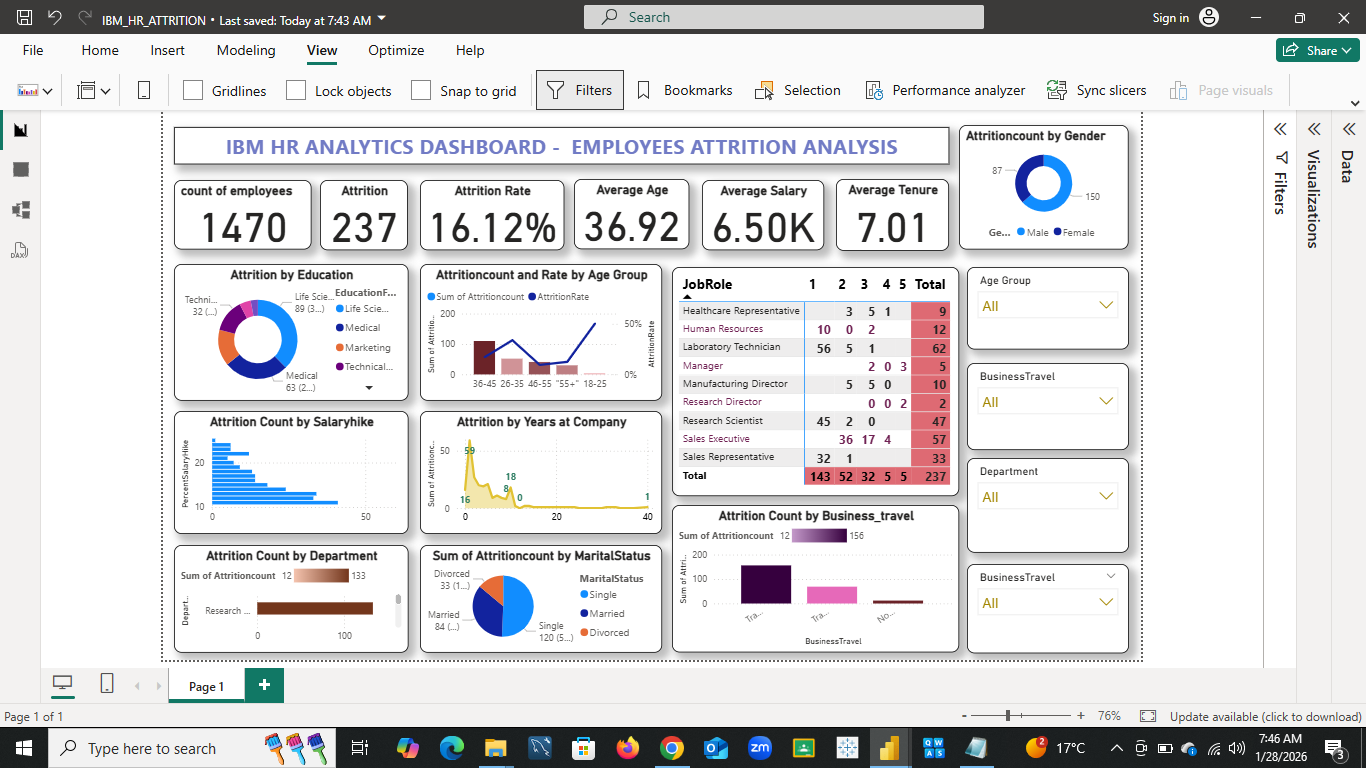

Layout of this report page (visuals, bound fields, positions):
{"tool":"powerbi","page":{"name":"Page 1","canvas":[1280,720],"ordinal":0},"visuals":[{"type":"textbox","box":[14.4,21.6,1015.2,49],"z":0},{"type":"card","title":"count of employees","fields":{"Values":["CountNonNull(HR_ANALYTICS.EmployeeID)"]},"box":[14.4,92.2,180,90.7],"z":1000},{"type":"card","title":"Attrition","fields":{"Values":["Sum(HR_ANALYTICS.Attritioncount)"]},"box":[205.9,92.2,115.2,92.2],"z":2000},{"type":"card","title":"Attrition Rate","fields":{"Values":["HR_ANALYTICS.AttritionRate"]},"box":[337,92.2,188.6,92.2],"z":3000},{"type":"card","title":"Average Age","fields":{"Values":["Avg(HR_ANALYTICS.Age)"]},"box":[538.6,90.7,151.2,92.2],"z":4000},{"type":"card","title":"Average Salary","fields":{"Values":["Avg(HR_ANALYTICS.MonthlyIncome)"]},"box":[705.6,92.2,159.8,92.2],"z":5000},{"type":"card","title":"Average Tenure","fields":{"Values":["Avg(HR_ANALYTICS.YearsAtCompany)"]},"box":[881.3,90.7,148.3,93.6],"z":6000},{"type":"donutChart","title":" Attritioncount by Gender","fields":{"Category":["HR_ANALYTICS.Gender"],"Y":["Sum(HR_ANALYTICS.Attritioncount)"]},"box":[1042.6,20.2,221.8,162.7],"z":7000},{"type":"donutChart","title":"Attrition by Education","fields":{"Category":["HR_ANALYTICS.EducationField","HR_ANALYTICS.YearsAtCompany"],"Y":["Sum(HR_ANALYTICS.Attritioncount)"]},"box":[14.4,201.6,306.7,178.6],"z":8000},{"type":"lineStackedColumnComboChart","title":" Attritioncount and Rate by Age Group","fields":{"Category":["HR_ANALYTICS.Age Group"],"Y":["Sum(HR_ANALYTICS.Attritioncount)"],"Y2":["HR_ANALYTICS.AttritionRate"]},"box":[337,201.6,316.8,178.6],"z":9000},{"type":"pivotTable","fields":{"Rows":["HR_ANALYTICS.JobRole"],"Columns":["HR_ANALYTICS.JobLevel"],"Values":["Sum(HR_ANALYTICS.Attritioncount)"]},"box":[666.7,205.9,375.8,299.5],"z":10000},{"type":"barChart","title":"Attrition Count by Salaryhike","fields":{"Y":["Sum(HR_ANALYTICS.Attritioncount)"],"Category":["HR_ANALYTICS.PercentSalaryHike"]},"box":[14.4,394.6,306.7,161.3],"z":11000},{"type":"areaChart","title":"Attrition by Years at Company","fields":{"Category":["HR_ANALYTICS.YearsAtCompany"],"Y":["Sum(HR_ANALYTICS.Attritioncount)"]},"box":[337,394.6,316.8,161.3],"z":12000},{"type":"barChart","title":"Attrition Count by Department","fields":{"Y":["Sum(HR_ANALYTICS.Attritioncount)"],"Category":["HR_ANALYTICS.Department"]},"box":[14.4,568.8,306.7,141.1],"z":13000},{"type":"pieChart","fields":{"Category":["HR_ANALYTICS.MaritalStatus"],"Y":["Sum(HR_ANALYTICS.Attritioncount)"]},"box":[337,568.8,316.8,141.1],"z":14000},{"type":"columnChart","title":"Attrition Count by Business_travel","fields":{"Y":["Sum(HR_ANALYTICS.Attritioncount)"],"Category":["HR_ANALYTICS.BusinessTravel"]},"box":[666.7,517,375.8,193],"z":15000},{"type":"slicer","fields":{"Values":["HR_ANALYTICS.Age Group"]},"box":[1052.6,205.9,211.7,108],"z":16000},{"type":"slicer","fields":{"Values":["HR_ANALYTICS.BusinessTravel"]},"box":[1052.6,331.2,211.7,113.8],"z":17000},{"type":"slicer","fields":{"Values":["HR_ANALYTICS.Department"]},"box":[1052.6,455,211.7,123.8],"z":18000},{"type":"slicer","fields":{"Values":["HR_ANALYTICS.BusinessTravel"]},"box":[1052.6,594.7,211.7,116.6],"z":19000}]}

Visuals, with their boxes on the page's 1280x720 design canvas (x1, y1, x2, y2). These are canvas units, not pixel positions in the 1366x768 screenshot, which may show the page scaled, cropped or inside an application window:
textbox: Rect(14, 22, 1030, 71)
"count of employees" card: Rect(14, 92, 194, 183)
"Attrition" card: Rect(206, 92, 321, 184)
"Attrition Rate" card: Rect(337, 92, 526, 184)
"Average Age" card: Rect(539, 91, 690, 183)
"Average Salary" card: Rect(706, 92, 865, 184)
"Average Tenure" card: Rect(881, 91, 1030, 184)
" Attritioncount by Gender" donutChart: Rect(1043, 20, 1264, 183)
"Attrition by Education" donutChart: Rect(14, 202, 321, 380)
" Attritioncount and Rate by Age Group" lineStackedColumnComboChart: Rect(337, 202, 654, 380)
pivotTable - HR_ANALYTICS.JobRole x HR_ANALYTICS.JobLevel: Rect(667, 206, 1042, 505)
"Attrition Count by Salaryhike" barChart: Rect(14, 395, 321, 556)
"Attrition by Years at Company" areaChart: Rect(337, 395, 654, 556)
"Attrition Count by Department" barChart: Rect(14, 569, 321, 710)
pieChart - HR_ANALYTICS.MaritalStatus x Sum(HR_ANALYTICS.Attritioncount): Rect(337, 569, 654, 710)
"Attrition Count by Business_travel" columnChart: Rect(667, 517, 1042, 710)
slicer - HR_ANALYTICS.Age Group: Rect(1053, 206, 1264, 314)
slicer - HR_ANALYTICS.BusinessTravel: Rect(1053, 331, 1264, 445)
slicer - HR_ANALYTICS.Department: Rect(1053, 455, 1264, 579)
slicer - HR_ANALYTICS.BusinessTravel: Rect(1053, 595, 1264, 711)
